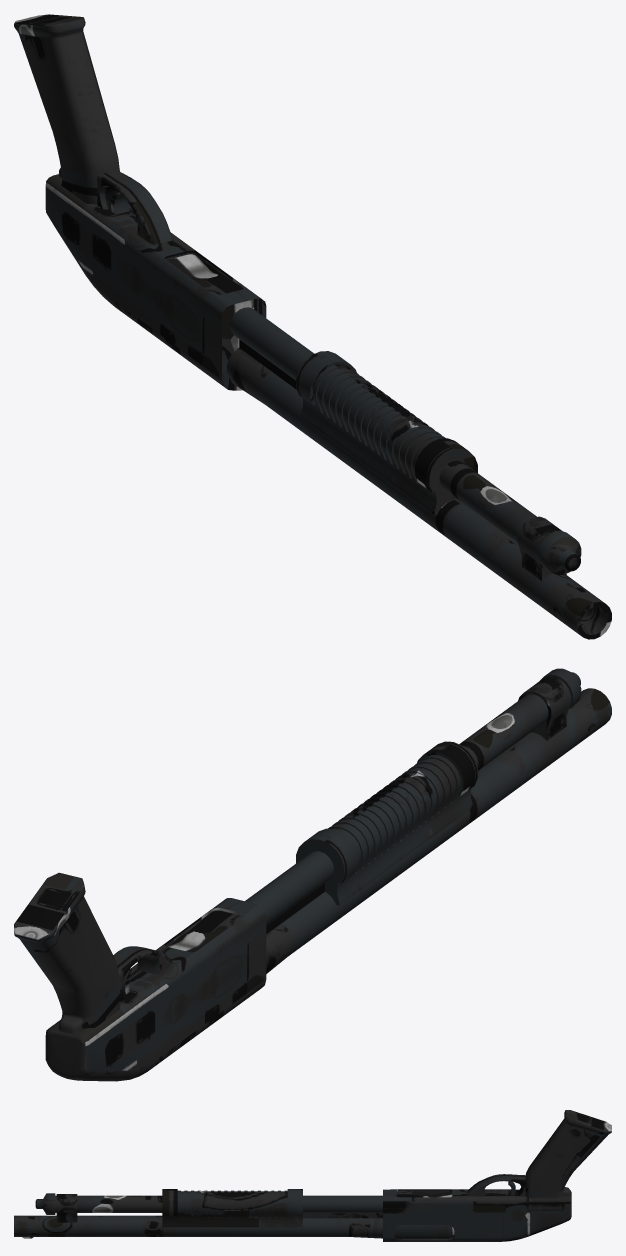
Rendered from shotgun2.fbx.
The picture shows the model from 3 angles, top to bottom: view 1: azimuth 30°, elevation 25°; view 2: azimuth 150°, elevation 25°; view 3: azimuth 270°, elevation 25°; orthographic projection. The views are drawn at different scales.
Visible parts, largest first — view 1: Circle.001; view 2: Circle.001; view 3: Circle.001.
Boxes of the visible parts, bbox=[...] form: Circle.001: bbox=[14, 14, 611, 639]; Circle.001: bbox=[14, 668, 611, 1081]; Circle.001: bbox=[14, 1110, 611, 1241].
Size of the model in its own units: 30.66 by 146 by 624.
